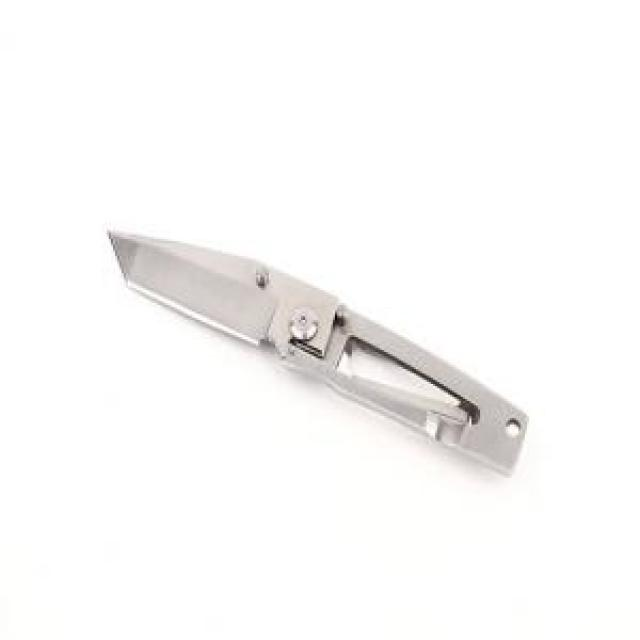knife: (107, 228, 531, 480)
